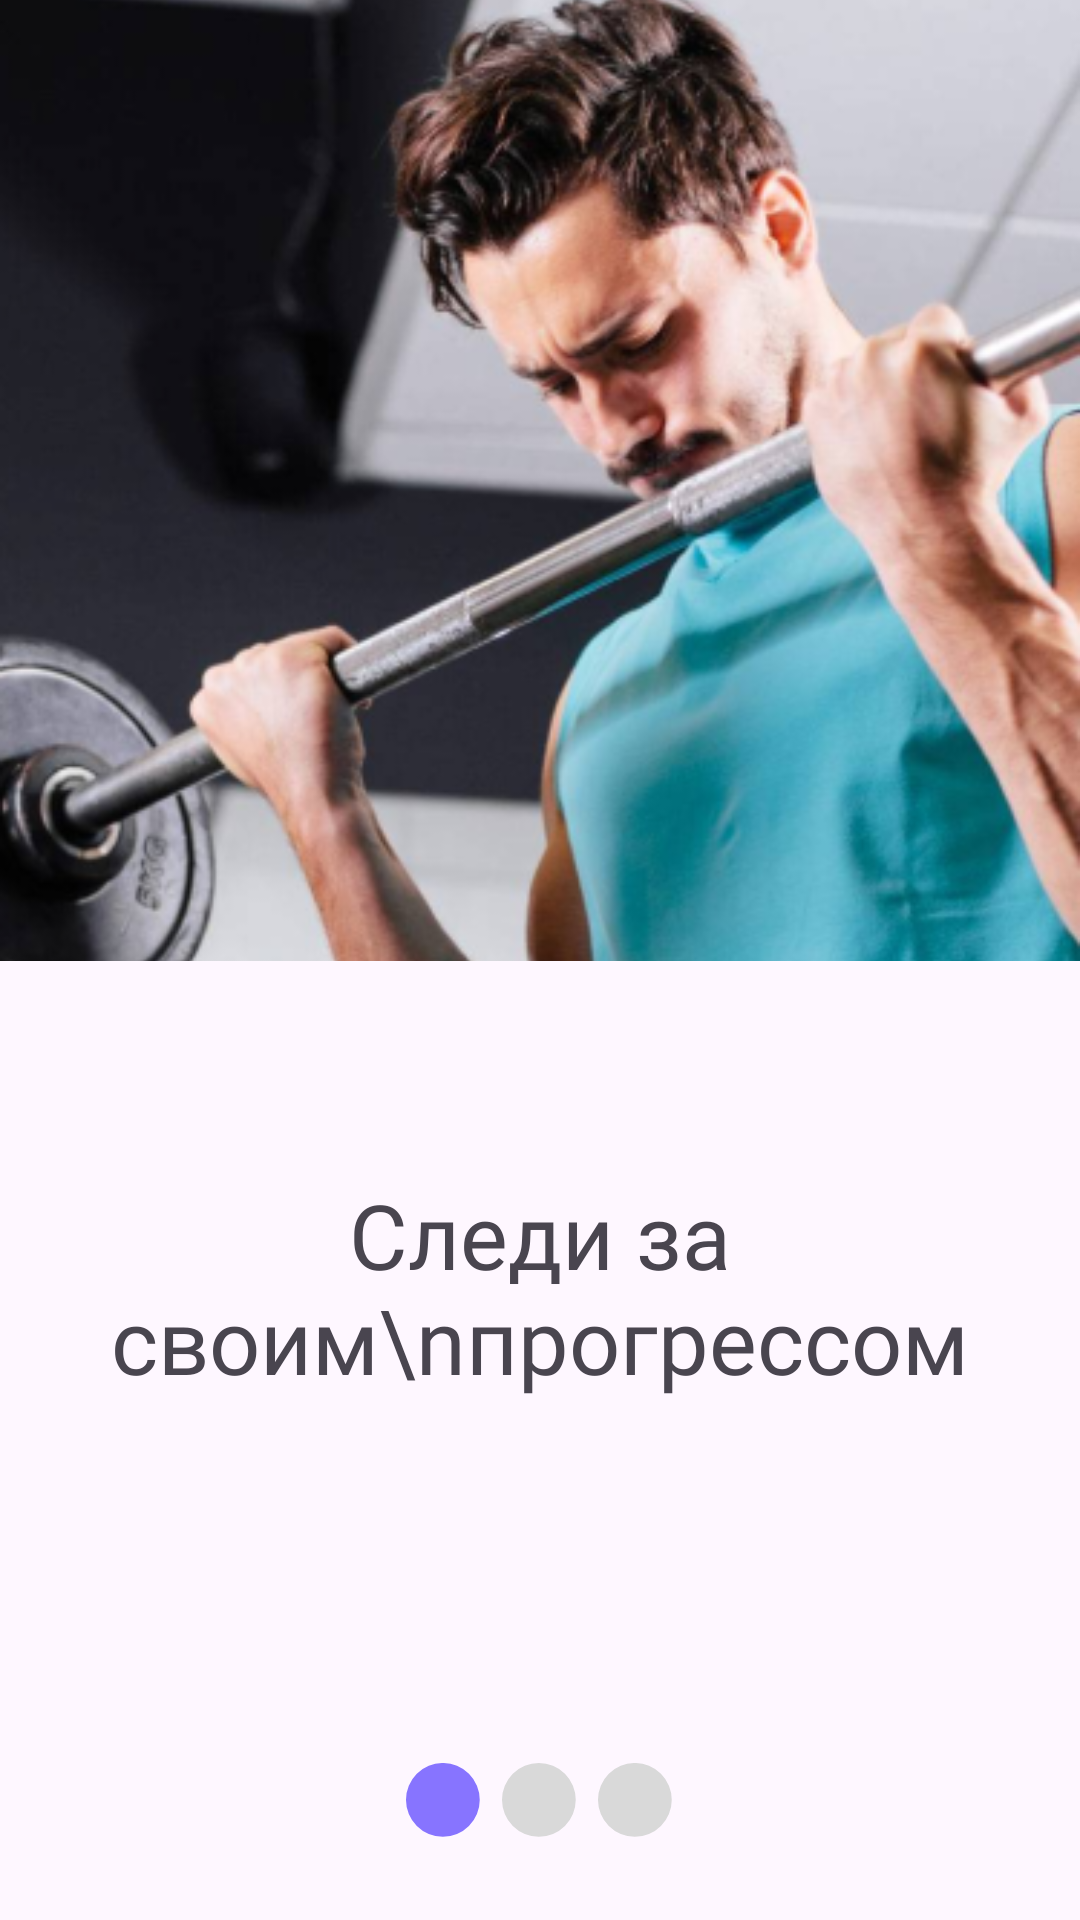

Screen size 1080 × 1920. Icon name, then its box in pixels as (x1, y1, x2, y2):
dots: (406, 1763, 672, 1837)
